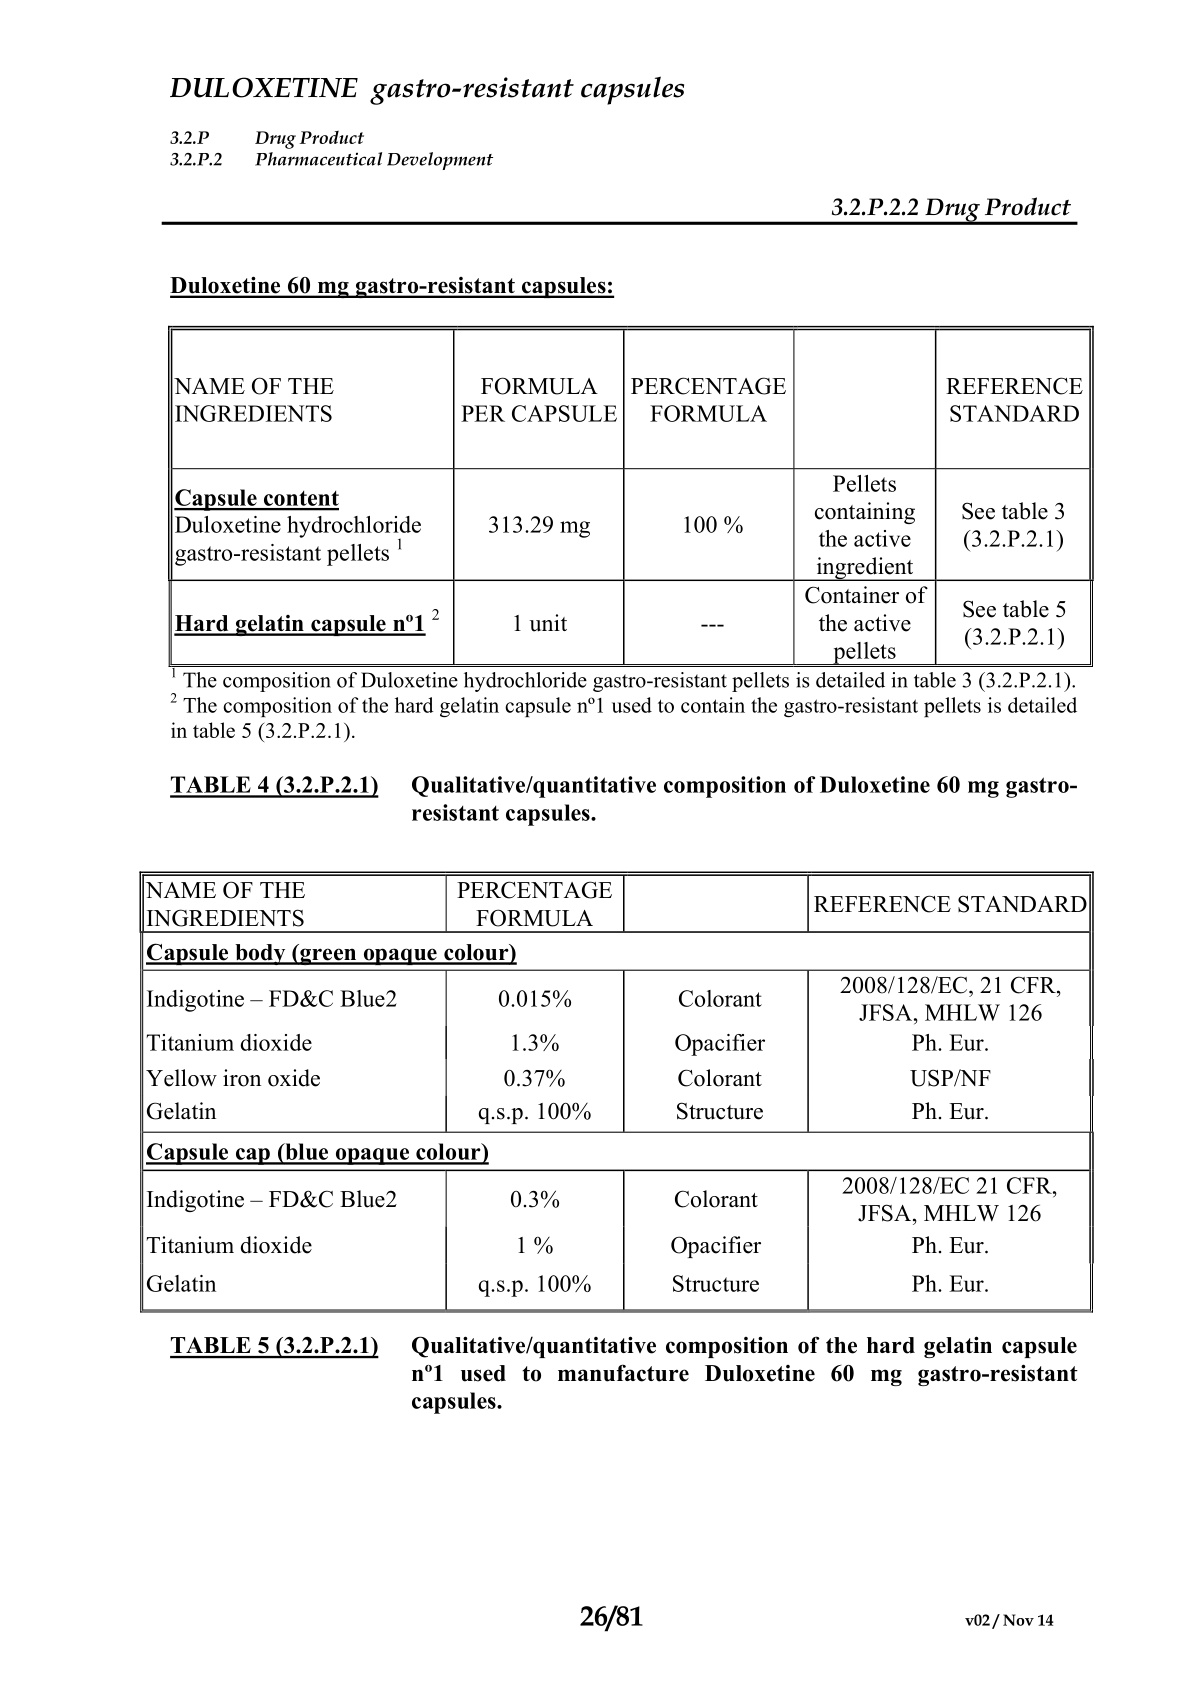full_lined: (168, 325, 1094, 667)
merged_cells: (139, 871, 1094, 1314)
